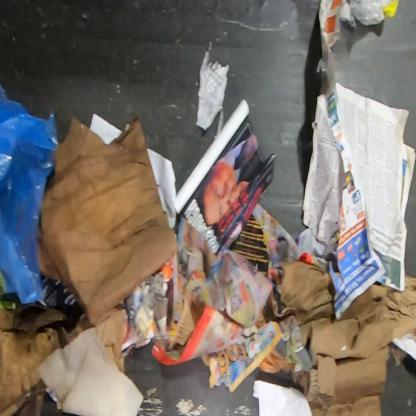cardboard: (268, 260, 416, 364), (0, 303, 130, 416), (302, 315, 402, 415), (302, 341, 392, 415)
soft_plastic: (0, 81, 61, 306), (348, 0, 392, 27)
